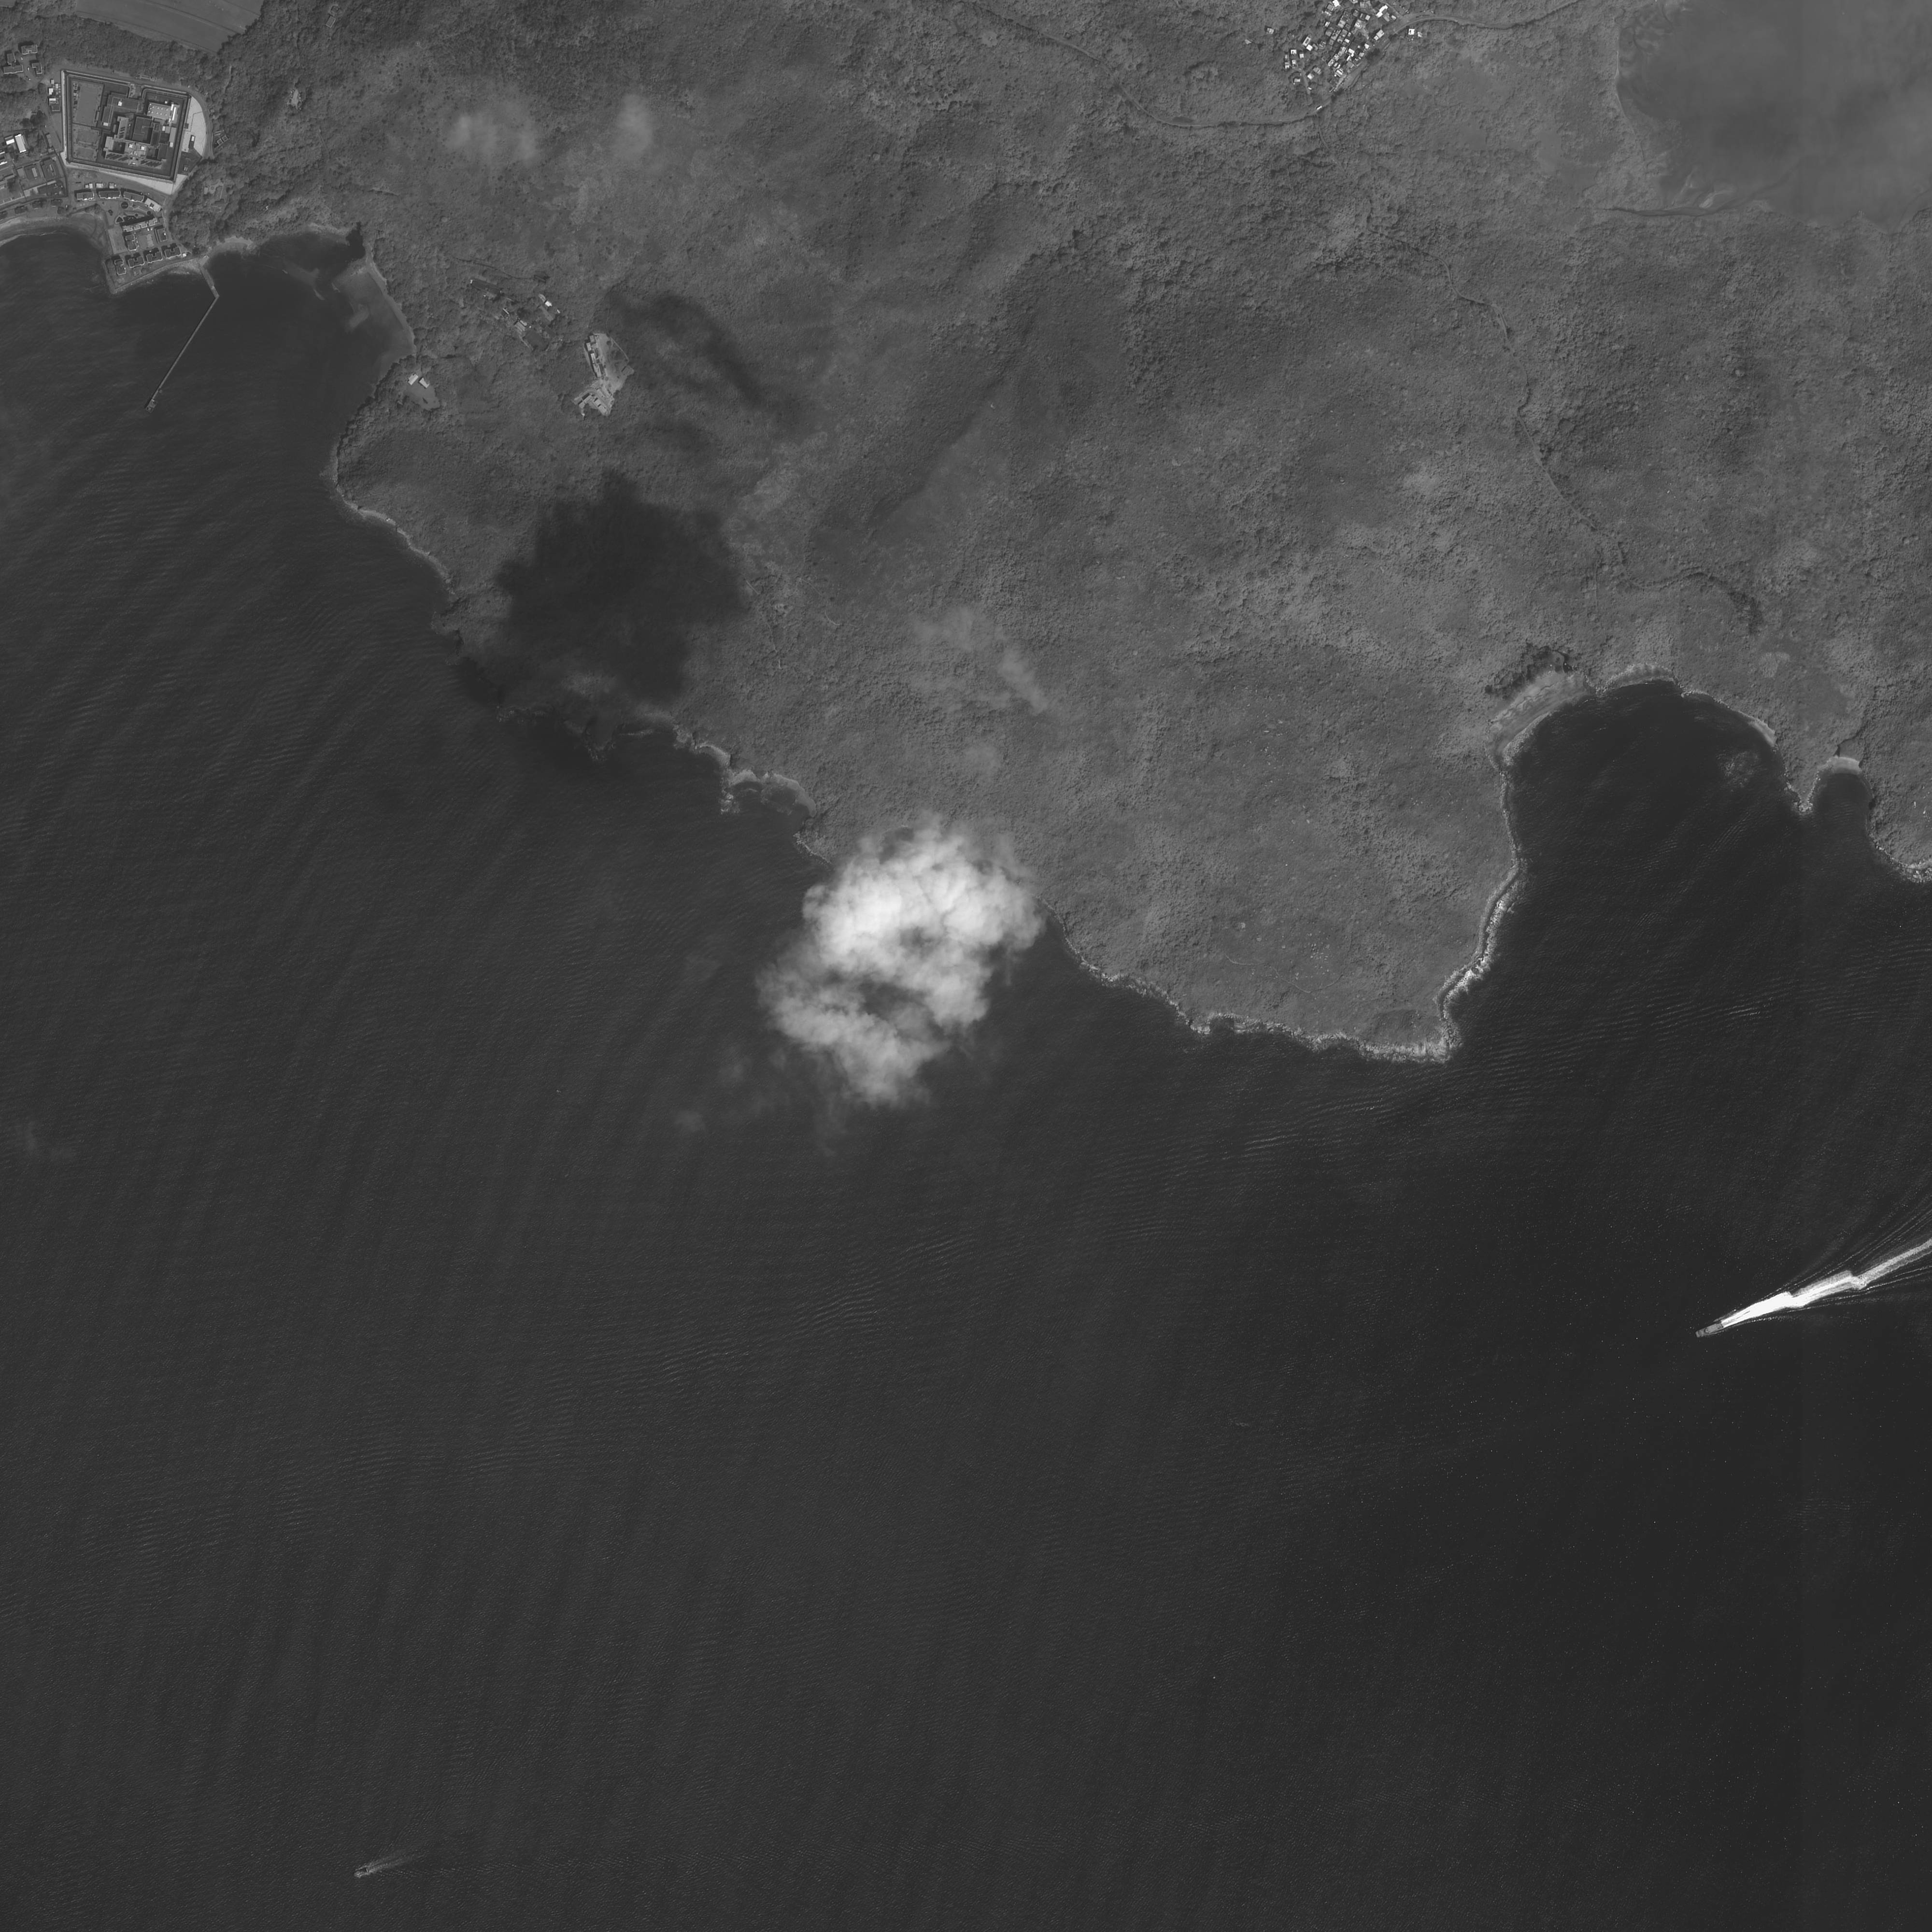harbor: (145, 292, 221, 414)
ship: (1695, 1322, 1723, 1339), (352, 1867, 370, 1879)
